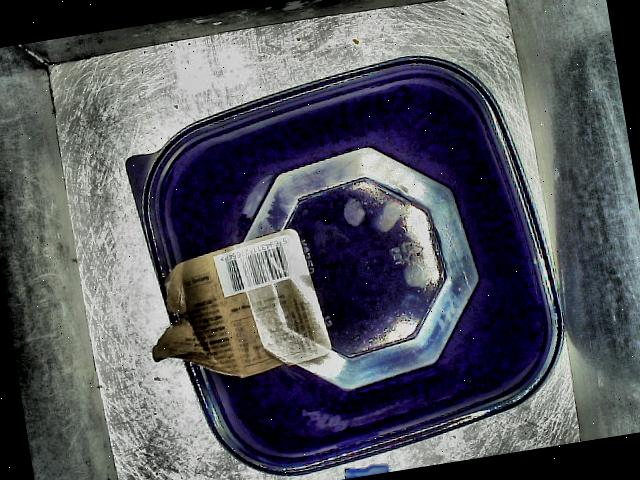Plastic: (96, 19, 586, 480)
